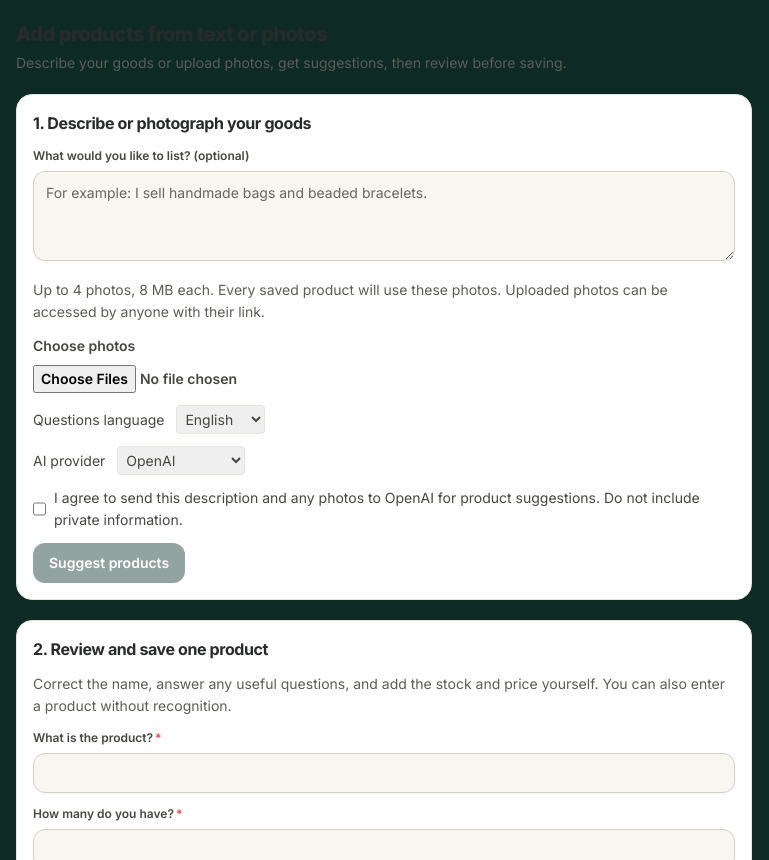
Test: photo product entry › refuses invalid quantities without sending a request
Step 1. Type "Mangoes" into the field labelled "What is the product?*" → (384, 773), box [33,753,735,793]
(page scrolled)
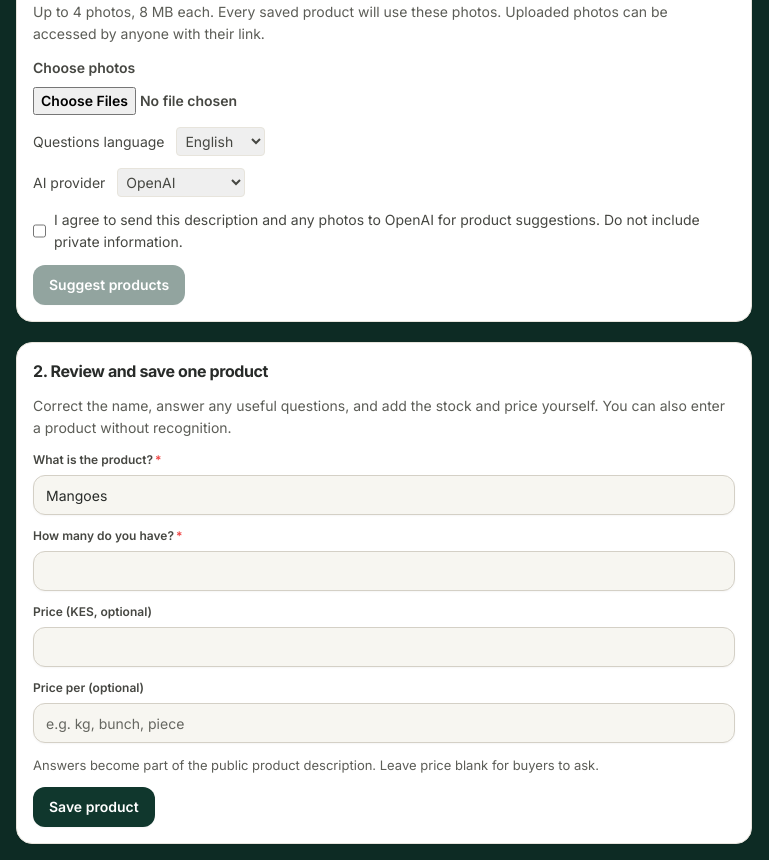
Step 2. Type "-1" into the number field labelled "How many do you have?*" → (384, 571), box [33,551,735,591]
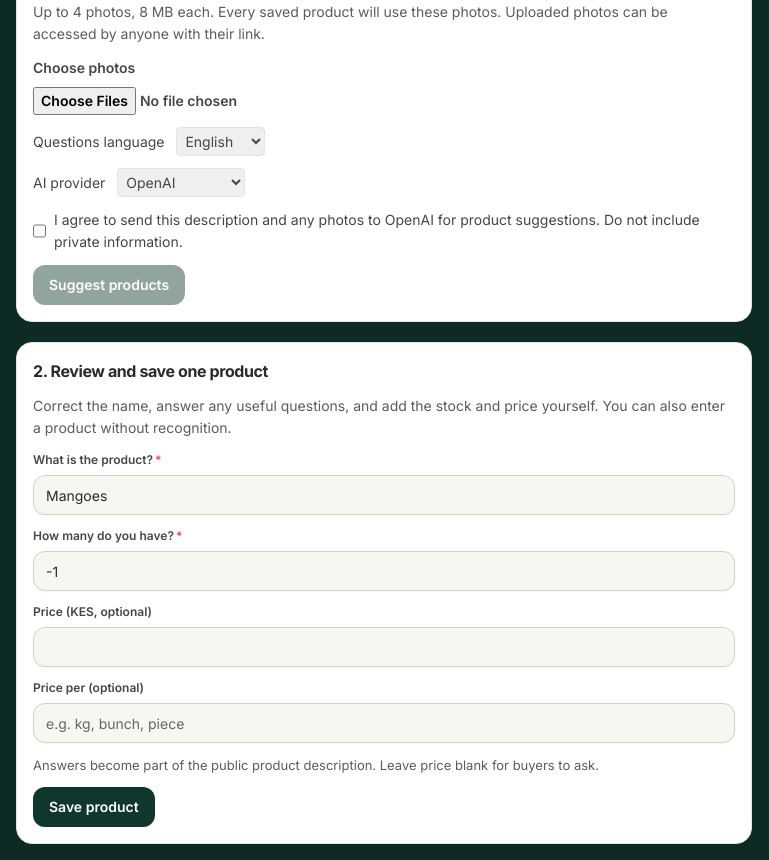
Step 3. Click the button "Save product" → (94, 807), box [33,787,155,827]
(page scrolled)
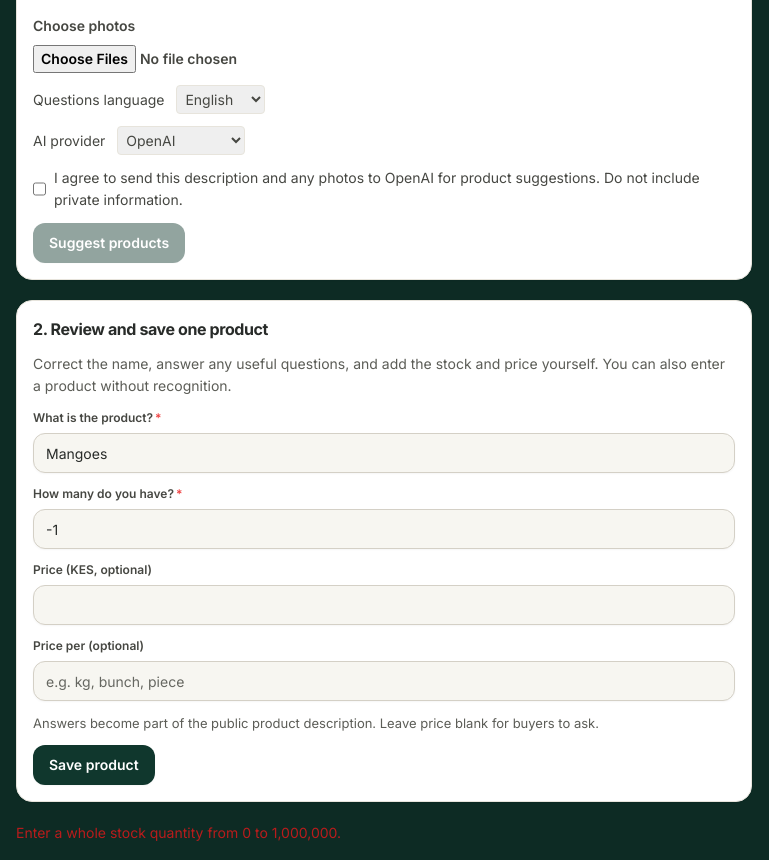
Check: the message shows "whole stock quantity", box [16,824,341,841]
